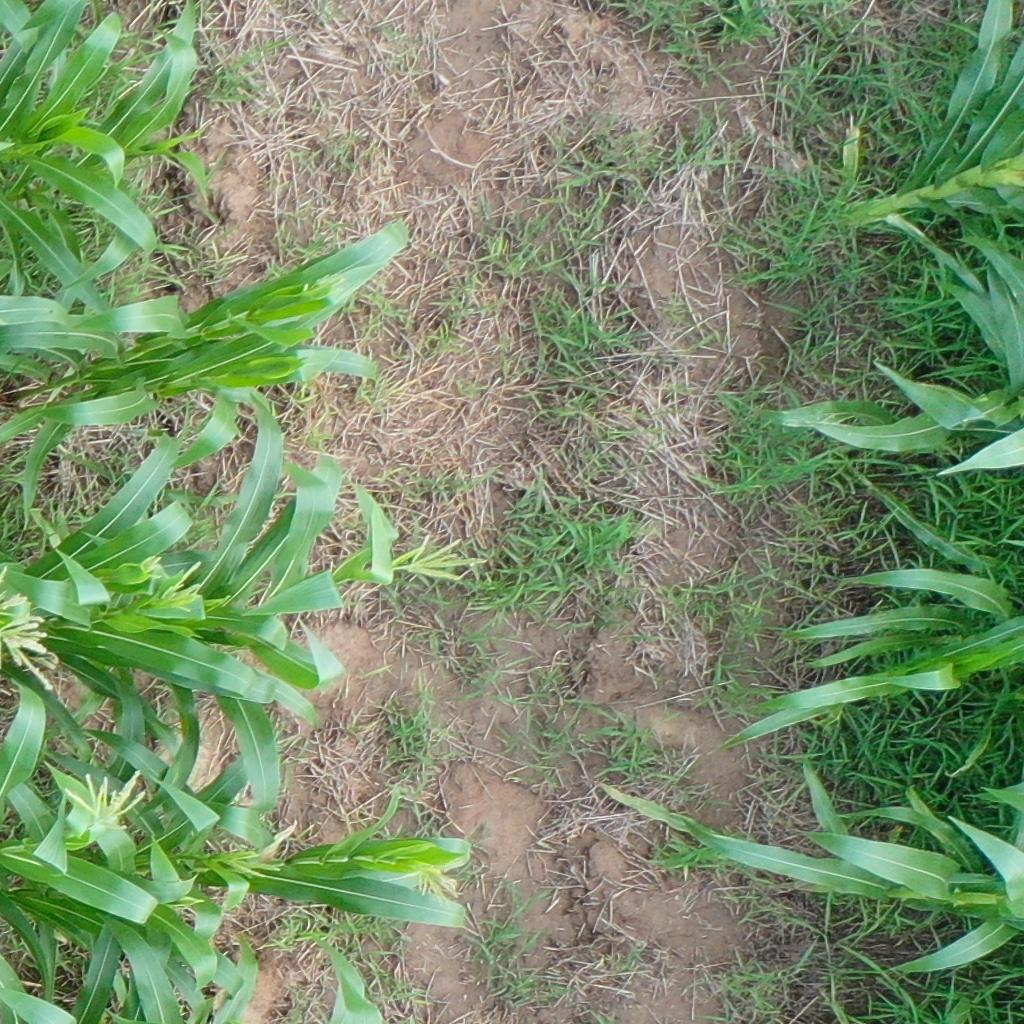Tassel: (1, 562, 62, 692), (61, 761, 151, 838), (135, 550, 204, 620), (398, 531, 485, 586), (394, 841, 466, 902), (222, 843, 285, 884), (299, 266, 348, 304)
